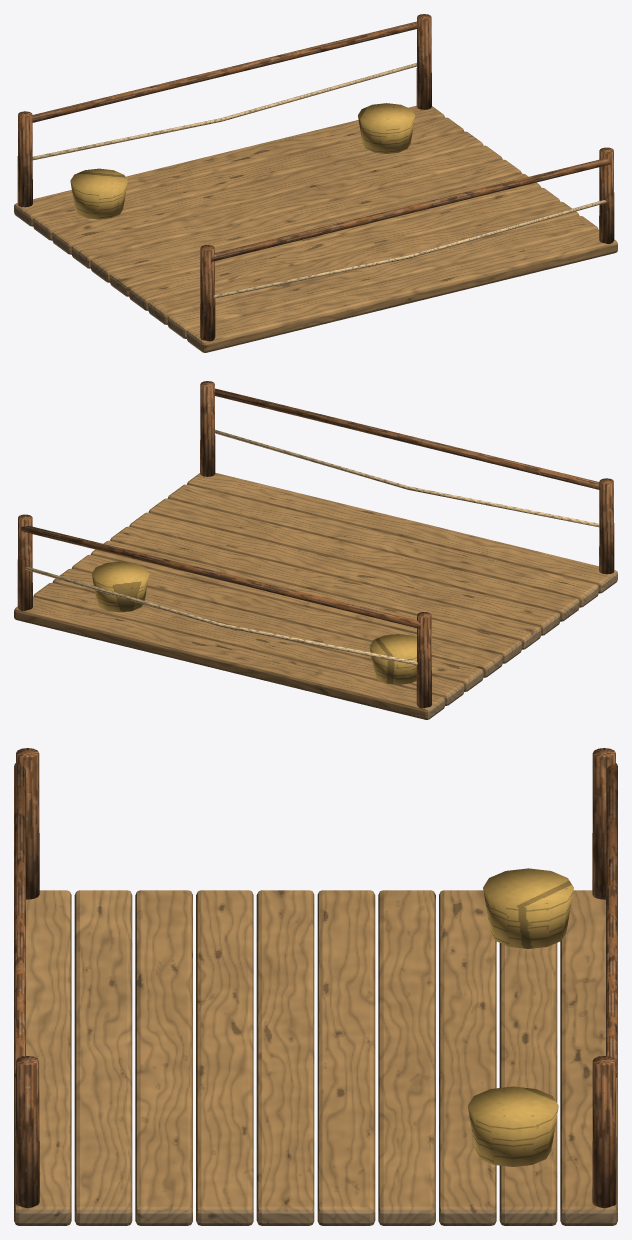
The model's file is deck.glb.
The picture shows the model from 3 angles, top to bottom: view 1: azimuth 30°, elevation 25°; view 2: azimuth 150°, elevation 25°; view 3: azimuth 270°, elevation 25°; orthographic projection. The views are drawn at different scales.
Visible parts, largest first — view 1: Deck; view 2: Deck; view 3: Deck.
Part boxes in pixels (x1,y1,x2,y2): Deck: (14,14,617,352); Deck: (14,381,617,719); Deck: (14,748,617,1225).
Size of the model in its own units: 5 by 1.17 by 3.98.
1 material, 1 textured.
